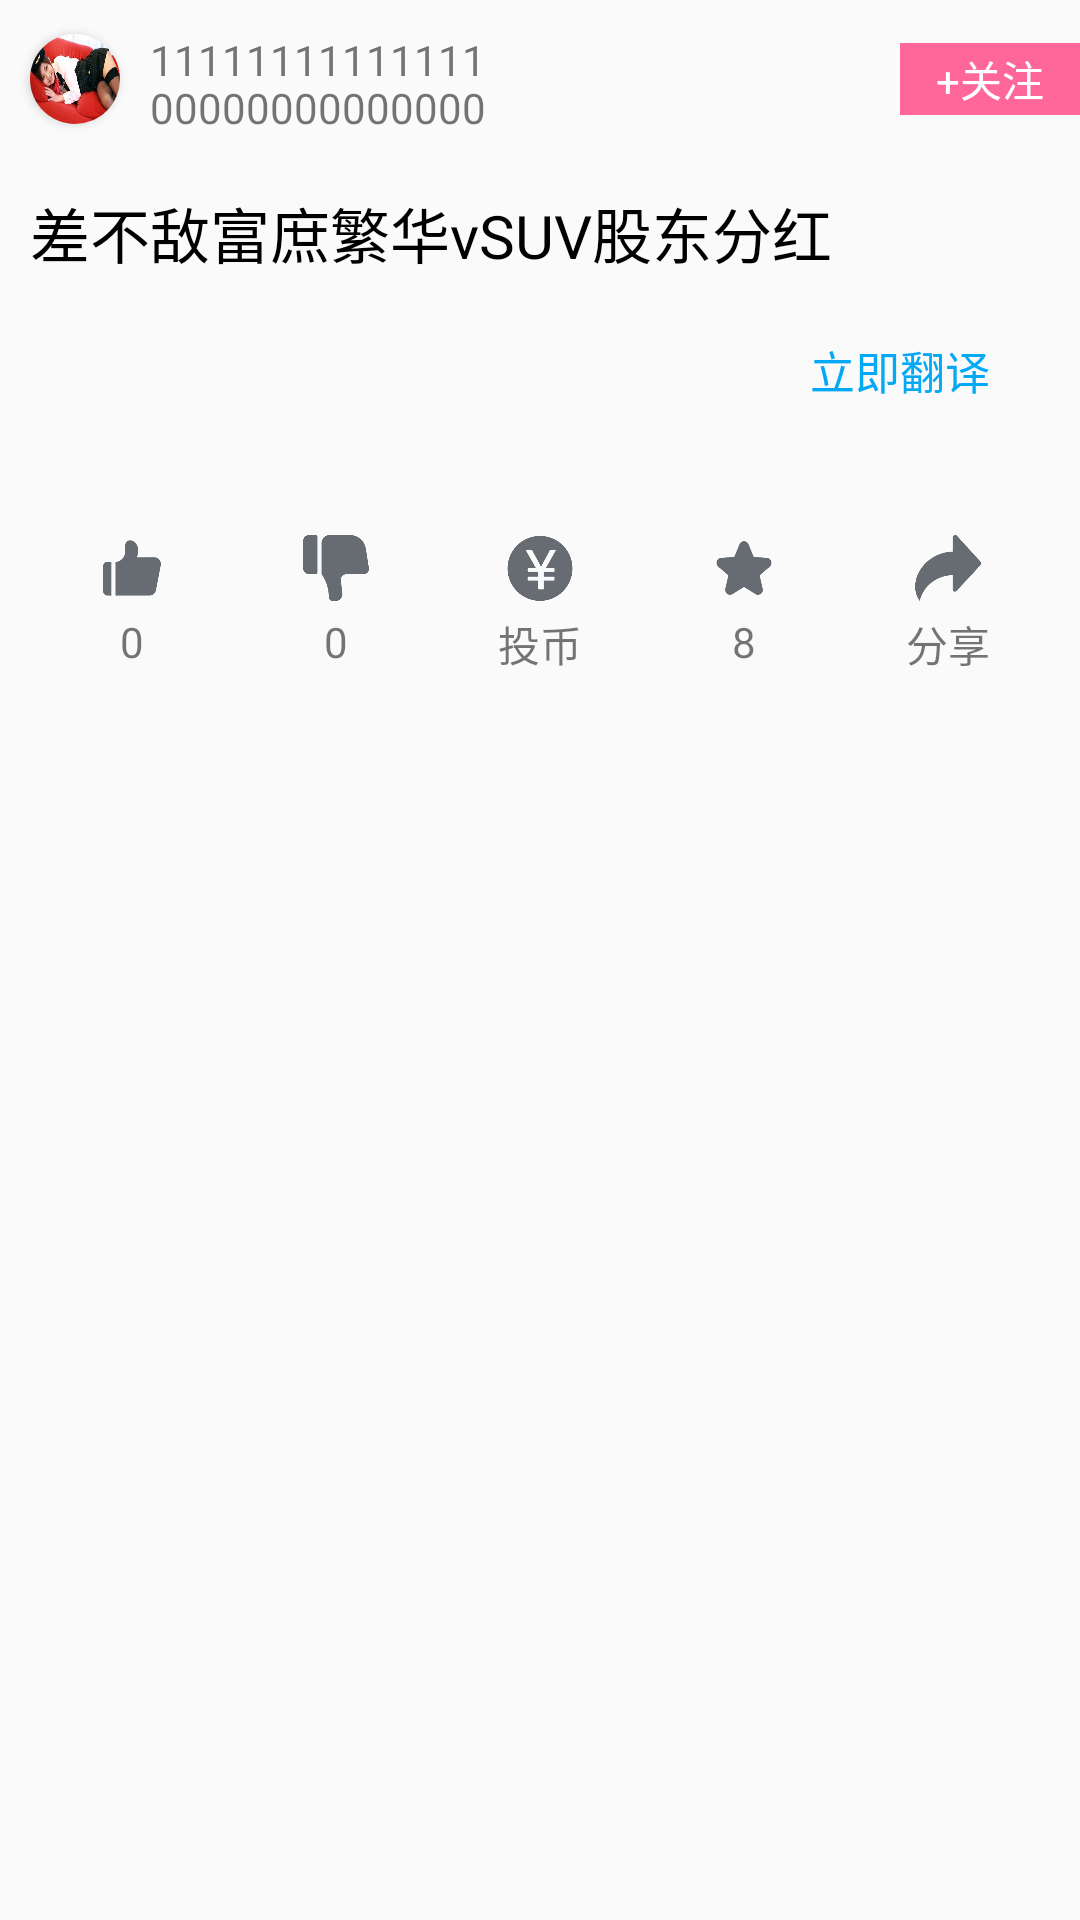

Point at icon controls on the screen. Image size 1080px x 1920px, points as [x,y].
star: [744,568]
